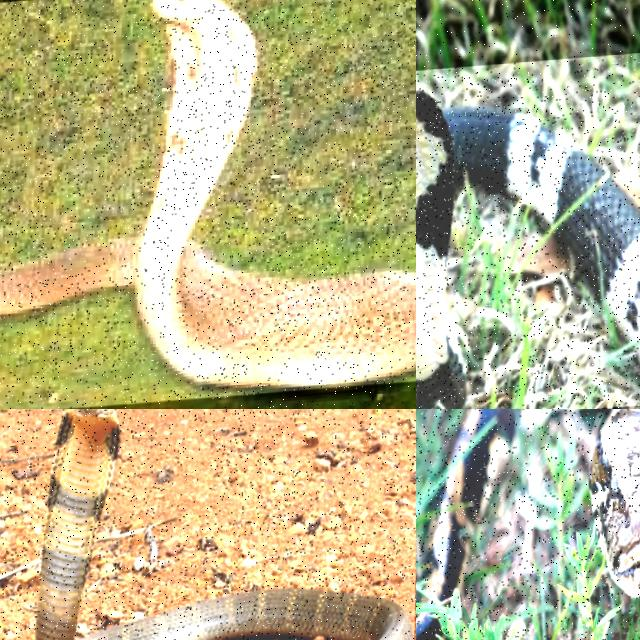Naja kaouthia: (0, 0, 415, 392)
Naja siamensis: (416, 91, 639, 408)
Ophiophagus hannah: (81, 589, 412, 639)
Python bivittatus: (427, 409, 562, 599)
